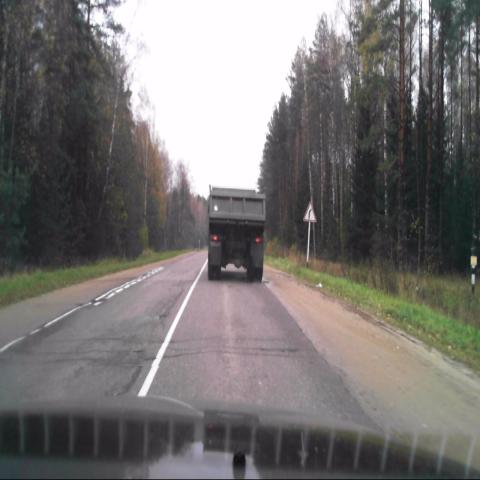1_11: (303, 200, 317, 223)
